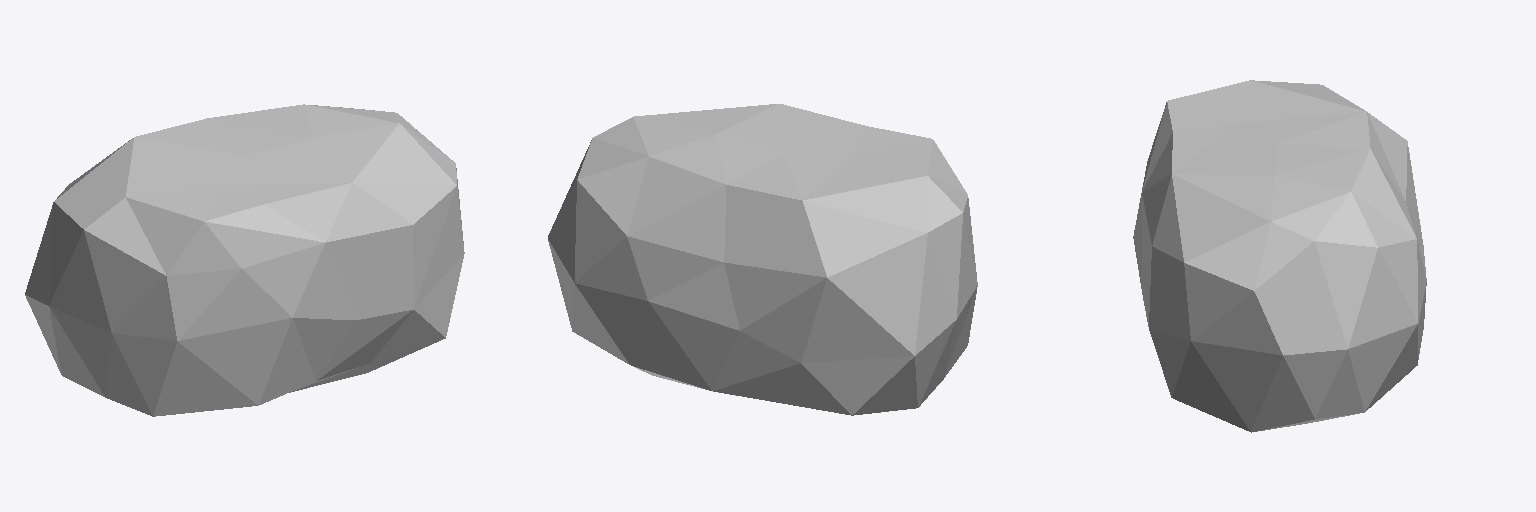
The model's file is nodes_nature_cobble1.obj.
3 views of the same model, side by side, from view 1: azimuth 30°, elevation 25°; view 2: azimuth 150°, elevation 25°; view 3: azimuth 270°, elevation 25° (orthographic).
Parts seen in each view (by area): view 1: Icosphere.001_Icosphere.001; view 2: Icosphere.001_Icosphere.001; view 3: Icosphere.001_Icosphere.001.
Boxes of the visible parts, box(x1,y1,x2,y2) form: Icosphere.001_Icosphere.001: box(25, 104, 464, 416); Icosphere.001_Icosphere.001: box(548, 104, 977, 415); Icosphere.001_Icosphere.001: box(1133, 80, 1426, 432).
Bounding box in the file's own units: 0.6778 × 0.3496 × 0.4354.